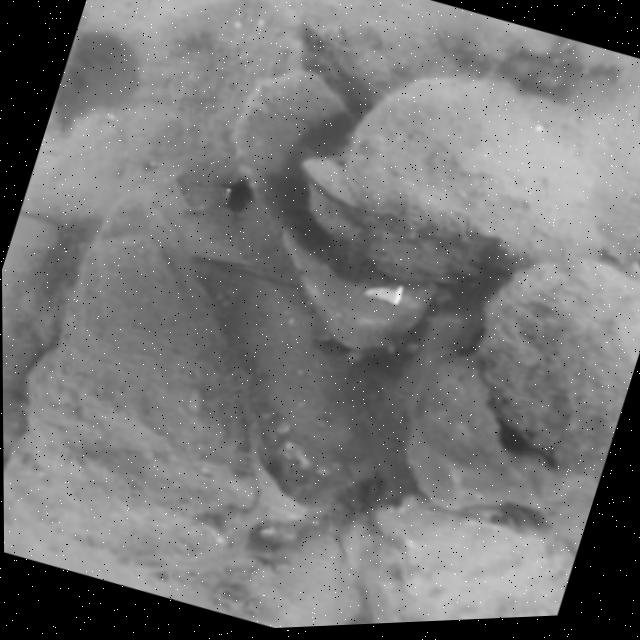Oyster-Closed: (10, 228, 254, 564)
Oyster-Indeterminate: (307, 79, 640, 287), (226, 68, 438, 354), (480, 266, 640, 485), (350, 504, 560, 624), (2, 215, 75, 455)
